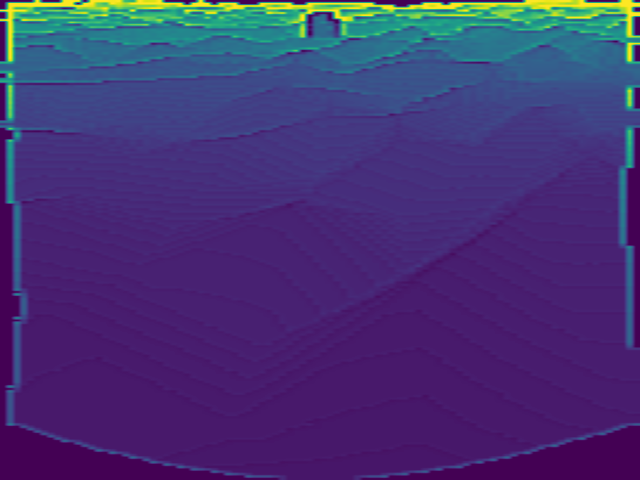car_0198: (301, 11, 346, 40)
